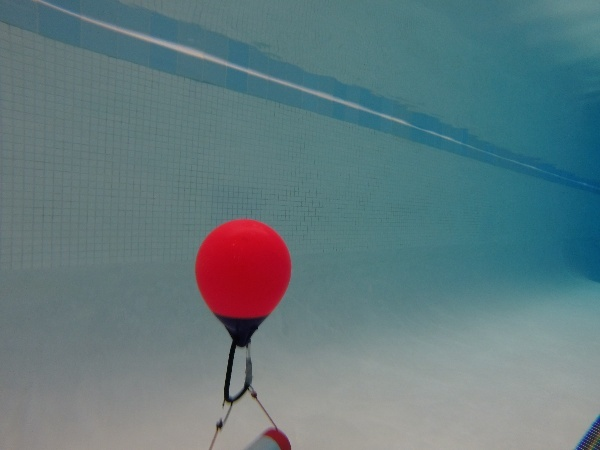buoy_red: (194, 218, 293, 348)
